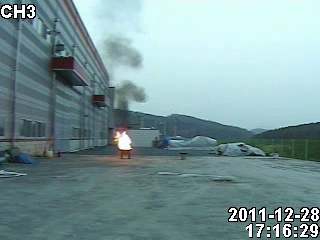fire: (114, 126, 131, 152)
smoke: (95, 2, 144, 117)
